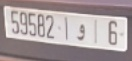2: (45, 12, 56, 39)
5: (9, 9, 20, 34), (28, 12, 37, 37)
6: (107, 19, 119, 47)
8: (37, 11, 45, 37)
9: (19, 10, 28, 35)
waw: (75, 23, 88, 41)
